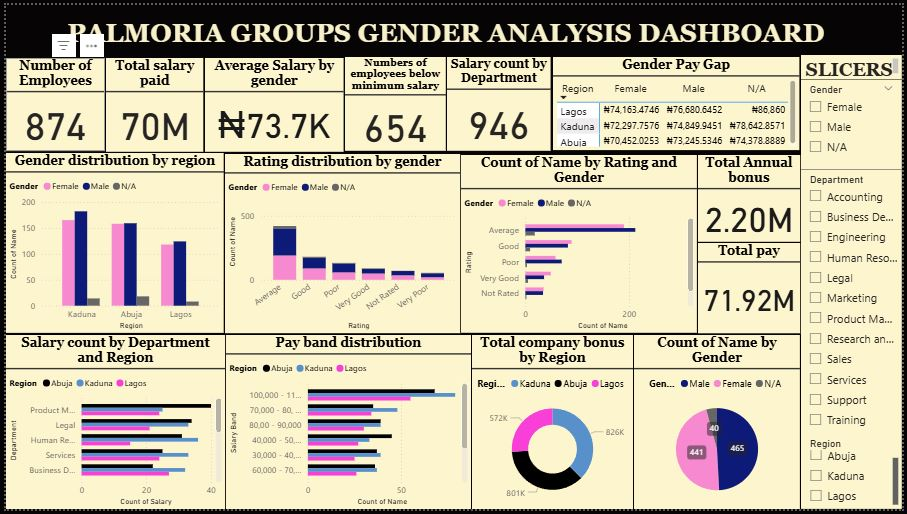

Layout of this report page (visuals, bound fields, positions):
{"tool":"powerbi","page":{"name":"Page 1","canvas":[1280,720],"ordinal":0},"visuals":[{"type":"shape","box":[85.7,17.1,1085.7,44.3],"z":0},{"type":"card","title":"Number of Employees","fields":{"Values":["Count(Merge1.Name)"]},"box":[0,75.7,141.4,132.9],"z":1000},{"type":"card","title":"Total salary  paid","fields":{"Values":["Sum(Merge1.Salary)"]},"box":[143,75.1,139.4,134.1],"z":2000},{"type":"clusteredColumnChart","title":"Gender distribution by region","fields":{"Category":["Merge1.Region"],"Y":["CountNonNull(Merge1.Name)"],"Series":["Merge1.Gender"]},"box":[0,211.4,311.4,257.1],"z":3000},{"type":"columnChart","title":"Rating distribution by gender","fields":{"Category":["Merge1.Rating"],"Y":["CountNonNull(Merge1.Name)"],"Series":["Merge1.Gender"]},"box":[312.9,212.9,335.7,255.7],"z":4000},{"type":"slicer","fields":{"Values":["Merge1.Gender"]},"box":[1135.7,107.3,144,127.7],"z":5000},{"type":"pivotTable","title":"Gender Pay Gap","fields":{"Rows":["Merge1.Region"],"Columns":["Merge1.Gender"],"Values":["Merge1.average salary"]},"box":[781.1,74.7,351.8,133.1],"z":6000},{"type":"card","title":"Average Salary by gender","fields":{"Values":["Merge1.average salary"]},"box":[284.2,75.1,198.4,134.1],"z":7000},{"type":"clusteredBarChart","title":"Pay band distribution","fields":{"Category":["Merge1.Salary Band"],"Y":["CountNonNull(Merge1.Name)"],"Series":["Merge1.Region"]},"box":[314.3,471.4,350,248.6],"z":8000},{"type":"slicer","fields":{"Values":["Merge1.Department"]},"box":[1135.7,235,144,377.7],"z":9000},{"type":"pieChart","fields":{"Y":["CountNonNull(Merge1.Name)"],"Category":["Merge1.Gender"]},"box":[897.1,471.4,237.1,248.6],"z":10000},{"type":"clusteredBarChart","title":"Salary count by Department and Region","fields":{"Category":["Merge1.Department"],"Series":["Merge1.Region"],"Y":["CountNonNull(Merge1.Salary)"]},"box":[0,471.4,312.9,248.6],"z":11000},{"type":"card","title":"Salary count by Department","fields":{"Values":["Merge1.Salary Count by Department and Region"]},"box":[630.3,74.7,148.1,134.5],"z":12000},{"type":"card","title":"Numbers of employees below minimum salary","fields":{"Values":["Merge1.Below minimum in salary"]},"box":[483.6,74.7,144,134.5],"z":13000},{"type":"clusteredBarChart","fields":{"Category":["Merge1.Rating"],"Y":["CountNonNull(Merge1.Name)"],"Series":["Merge1.Gender"]},"box":[650,214.3,337.1,254.3],"z":14000},{"type":"slicer","fields":{"Values":["Merge1.Region"]},"box":[1135.7,612.7,144,107.3],"z":15000},{"type":"textbox","box":[1135.7,72,144,35.3],"z":16000},{"type":"card","title":"Total Annual bonus","fields":{"Values":["Sum(Merge1.Annual Bonus)"]},"box":[988.6,214.3,145.7,124.3],"z":17000},{"type":"card","title":"Total pay","fields":{"Values":["Sum(Merge1.Total pay)"]},"box":[988.6,340,145.7,128.6],"z":18000},{"type":"donutChart","fields":{"Category":["Merge1.Region"],"Y":["Merge1.Total company bonus"]},"box":[665.7,471.4,230,248.6],"z":19000}]}

Visuals, with their boxes in screenshot pixels (x1, y1, x2, y2), scaled from the page's 1280x720 canvas onto the 907x514 screenshot:
shape: <bbox>61, 12, 830, 44</bbox>
"Number of Employees" card: <bbox>0, 54, 100, 149</bbox>
"Total salary  paid" card: <bbox>101, 54, 200, 149</bbox>
"Gender distribution by region" clusteredColumnChart: <bbox>0, 151, 221, 334</bbox>
"Rating distribution by gender" columnChart: <bbox>222, 152, 460, 335</bbox>
slicer - Merge1.Gender: <bbox>805, 77, 906, 168</bbox>
"Gender Pay Gap" pivotTable: <bbox>553, 53, 803, 148</bbox>
"Average Salary by gender" card: <bbox>201, 54, 342, 149</bbox>
"Pay band distribution" clusteredBarChart: <bbox>223, 337, 471, 513</bbox>
slicer - Merge1.Department: <bbox>805, 168, 906, 437</bbox>
pieChart - CountNonNull(Merge1.Name) x Merge1.Gender: <bbox>636, 337, 804, 513</bbox>
"Salary count by Department and Region" clusteredBarChart: <bbox>0, 337, 222, 513</bbox>
"Salary count by Department" card: <bbox>447, 53, 552, 149</bbox>
"Numbers of employees below minimum salary" card: <bbox>343, 53, 445, 149</bbox>
clusteredBarChart - Merge1.Rating x CountNonNull(Merge1.Name): <bbox>461, 153, 699, 335</bbox>
slicer - Merge1.Region: <bbox>805, 437, 906, 513</bbox>
textbox: <bbox>805, 51, 906, 77</bbox>
"Total Annual bonus" card: <bbox>701, 153, 804, 242</bbox>
"Total pay" card: <bbox>701, 243, 804, 335</bbox>
donutChart - Merge1.Region x Merge1.Total company bonus: <bbox>472, 337, 635, 513</bbox>
